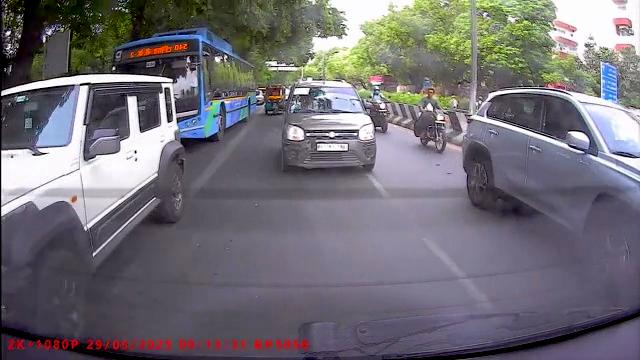motorcycle_with_helmet: (365, 85, 393, 132)
motorcycle_without_helmet: (415, 86, 448, 153)
